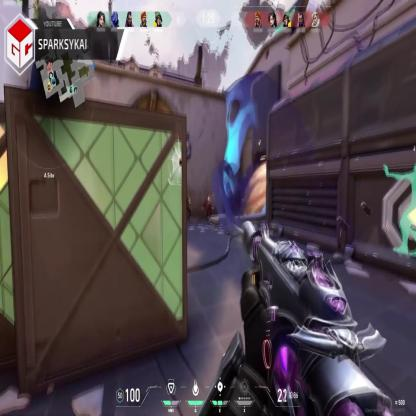enemy: (183, 192, 191, 223), (207, 191, 215, 219)
enemy_head: (208, 193, 213, 202), (186, 194, 190, 199)
